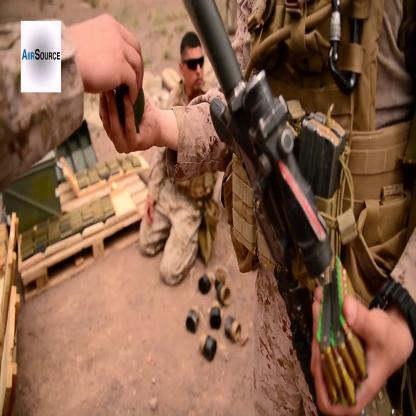Grenade: (106, 63, 145, 136)
Gun: (182, 0, 342, 416)
